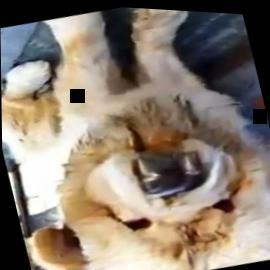nasal_discharge: (131, 141, 205, 203)
